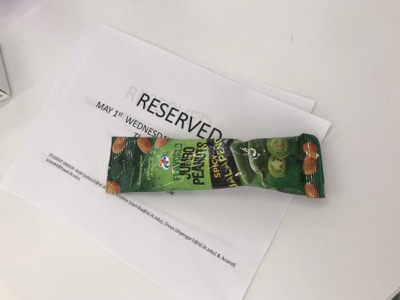peanut: (107, 133, 325, 198)
